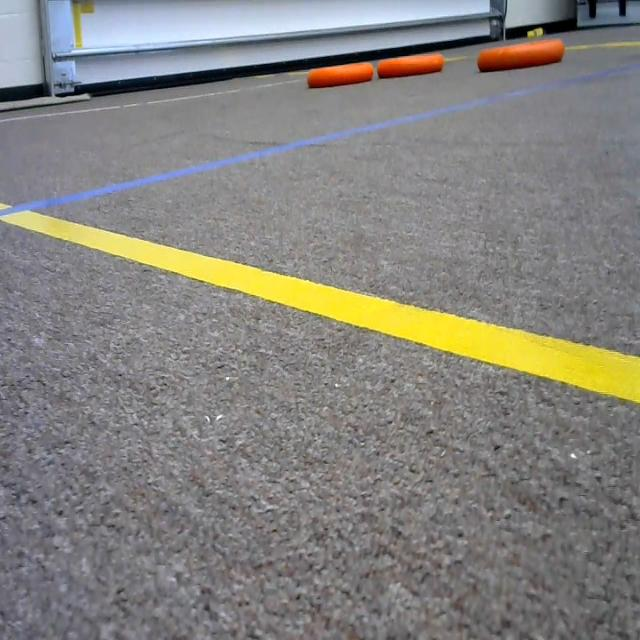note: (474, 38, 568, 76), (305, 58, 375, 88), (378, 51, 448, 81)
